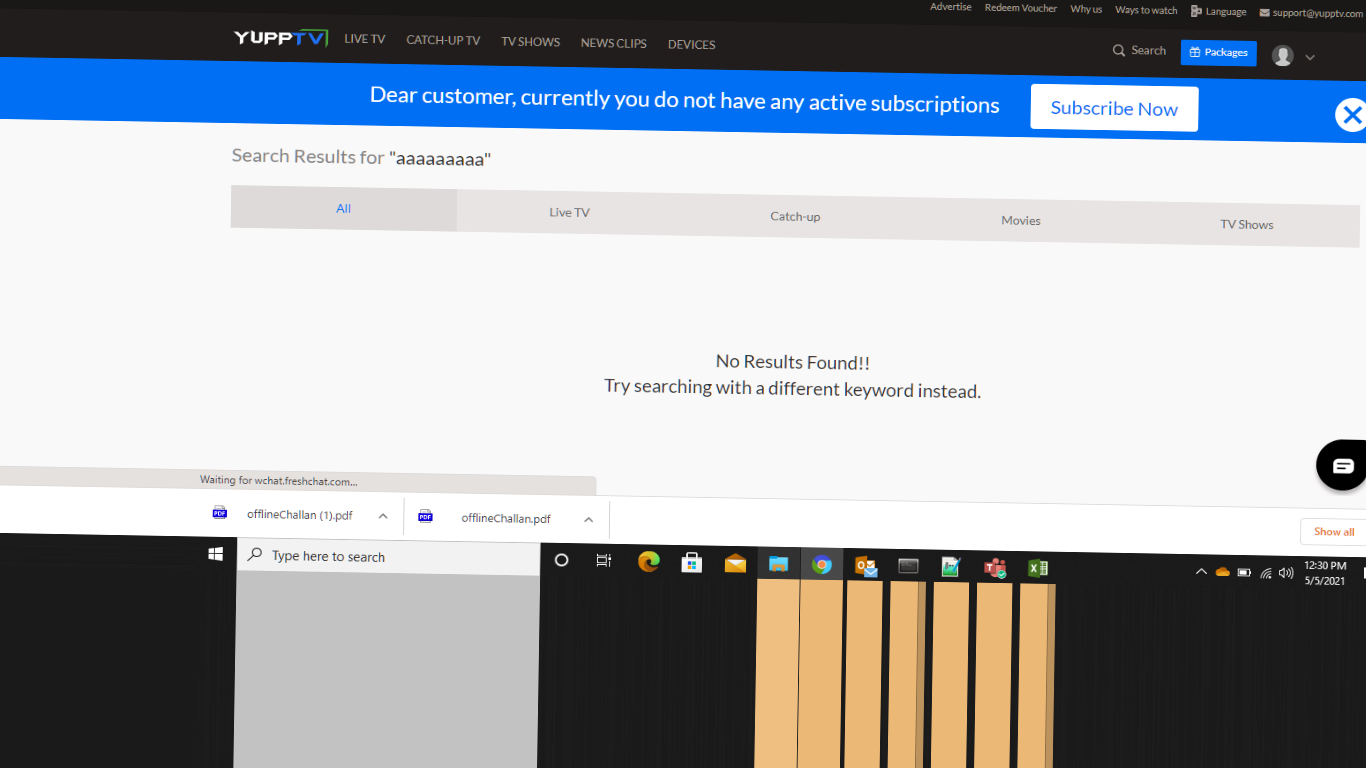noresultsfound: (578, 305, 996, 420)
profileicon: (1274, 42, 1340, 72)
searchicon: (1098, 33, 1172, 67)
